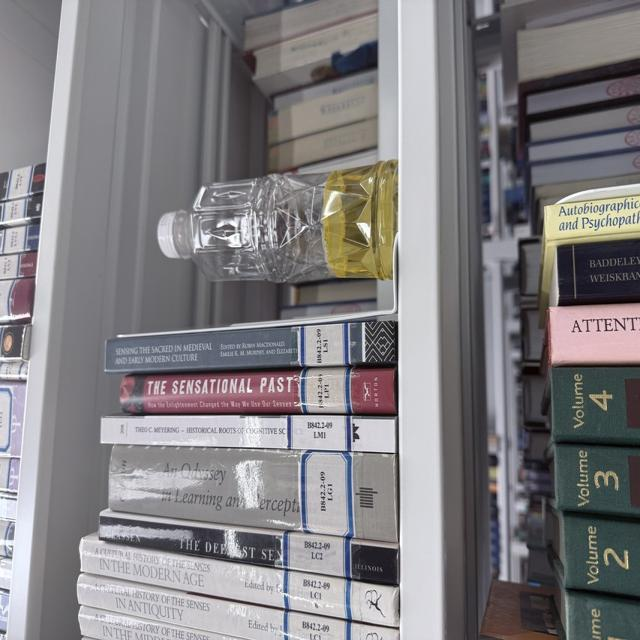low: (158, 160, 397, 282)
